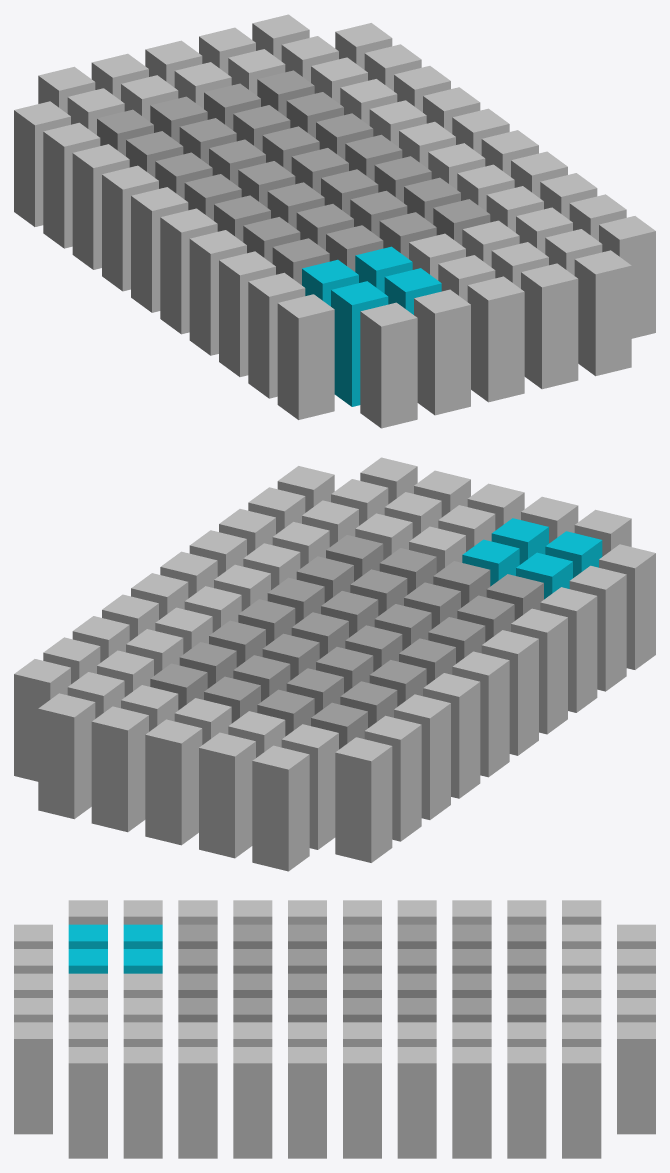
Rendered from ContainerMesh.fbx.
3 renders of one model, top to bottom at view 1: azimuth 30°, elevation 25°; view 2: azimuth 150°, elevation 25°; view 3: azimuth 270°, elevation 25°, orthographic. The views are drawn at different scales.
Visible parts, largest first — view 1: ContainerMesh; view 2: ContainerMesh; view 3: ContainerMesh.
Part boxes in pixels (x1,y1,x2,y2): ContainerMesh: [14, 14, 655, 428]; ContainerMesh: [14, 457, 655, 871]; ContainerMesh: [14, 900, 655, 1158].
Bounding box in the file's own units: 31.04 × 8.45 × 51.6.
